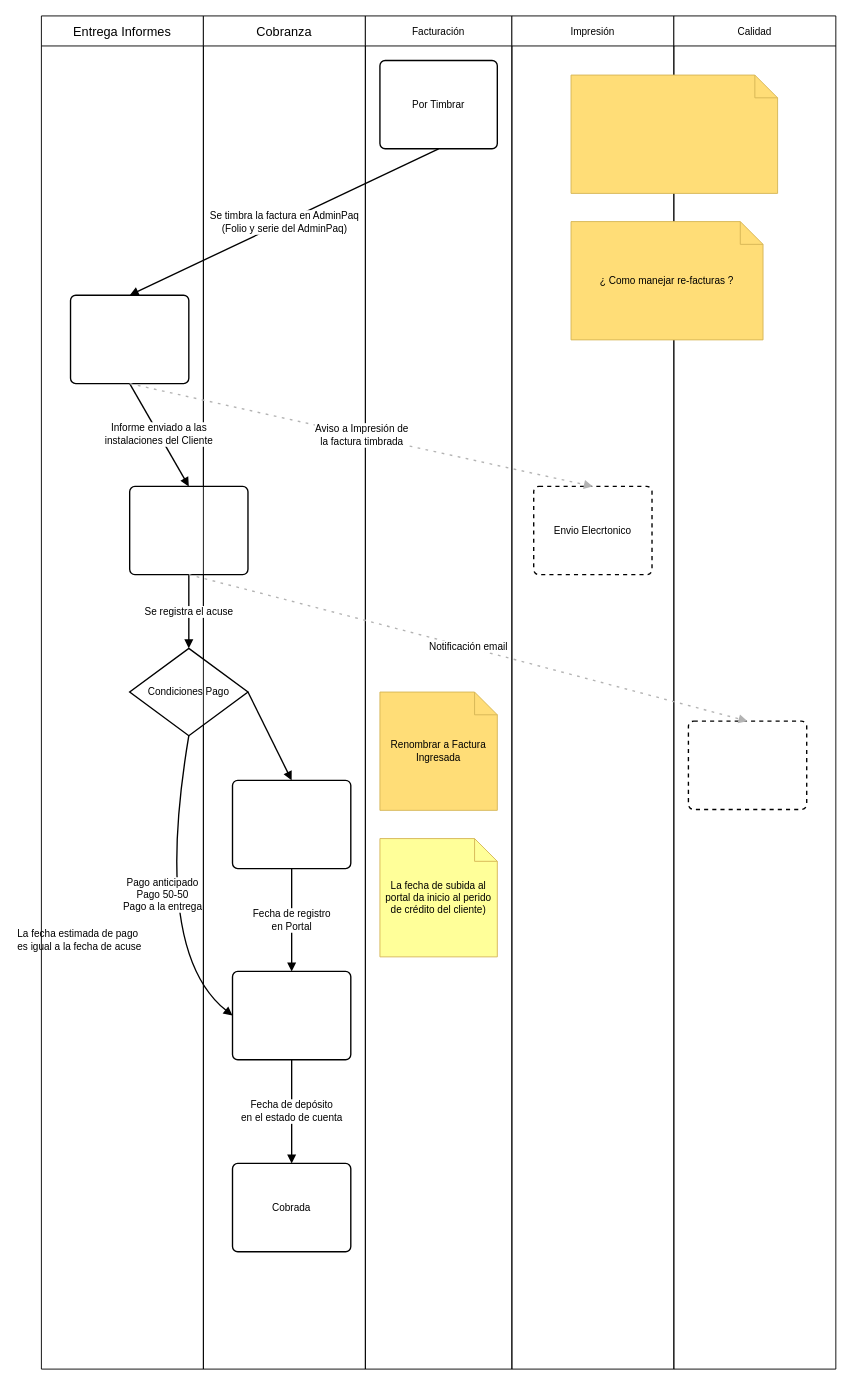
Some shapes in this 852 by 1385 pixel diagram are drawn without their labels. The shapes that lost their labels are listed below. From the top down, each one's centre as x and y in pixels, then its label:
At (674,133): "¿ Como manejar facturas de 50% adelanto y 50% al final ?".
At (129,339): "Envío físico del Informe".
At (188,530): "En espera de acuse".
At (747,765): "Reg Satisfaccion al cliente".
At (291,824): "Factura en portal".
At (291,1015): "Seguimiento del pago".
